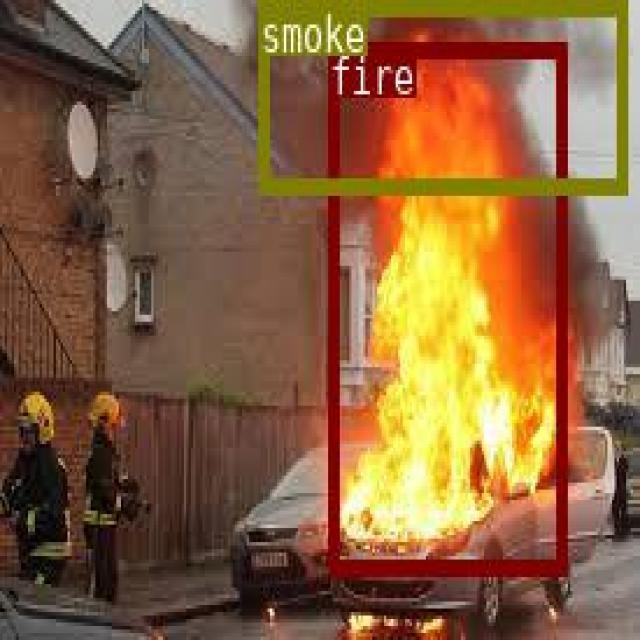fire: (327, 41, 564, 570)
smoke: (256, 0, 626, 189)
